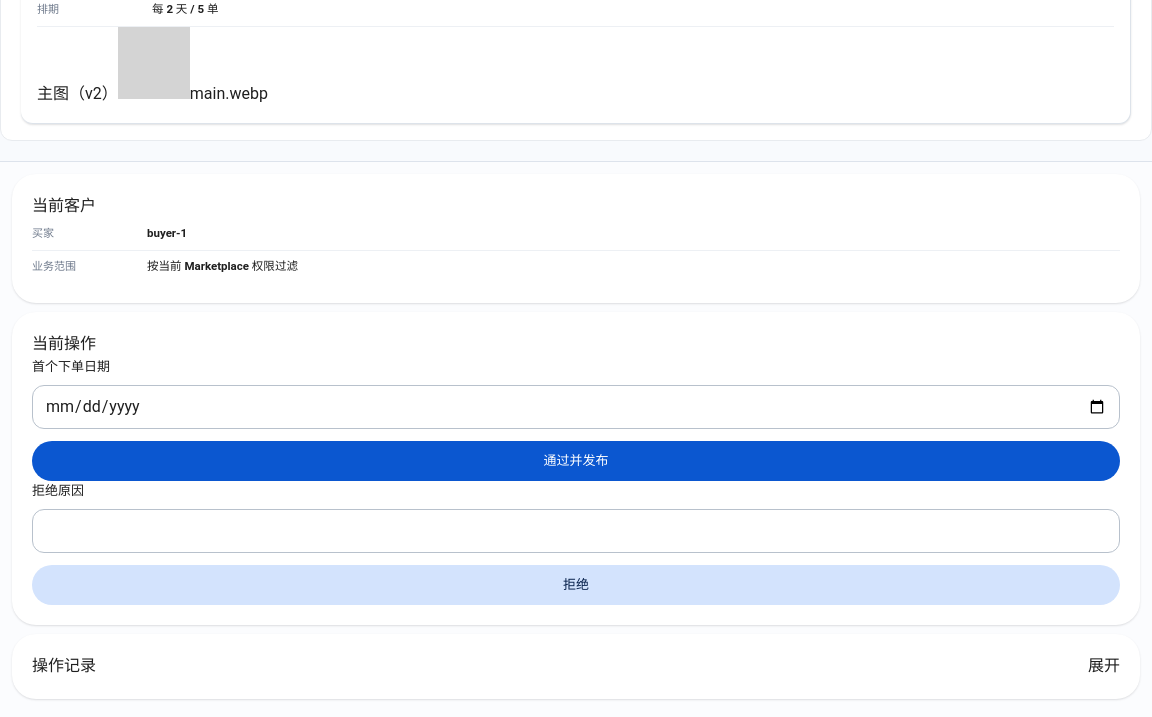
Test case: demand review panel › names the missing product readiness field when publish fails the 409 validation gate
(page scrolled)
In the date field labelled "首个下单日期": (576, 407) [32,385,1120,429], type "2026-08-11"
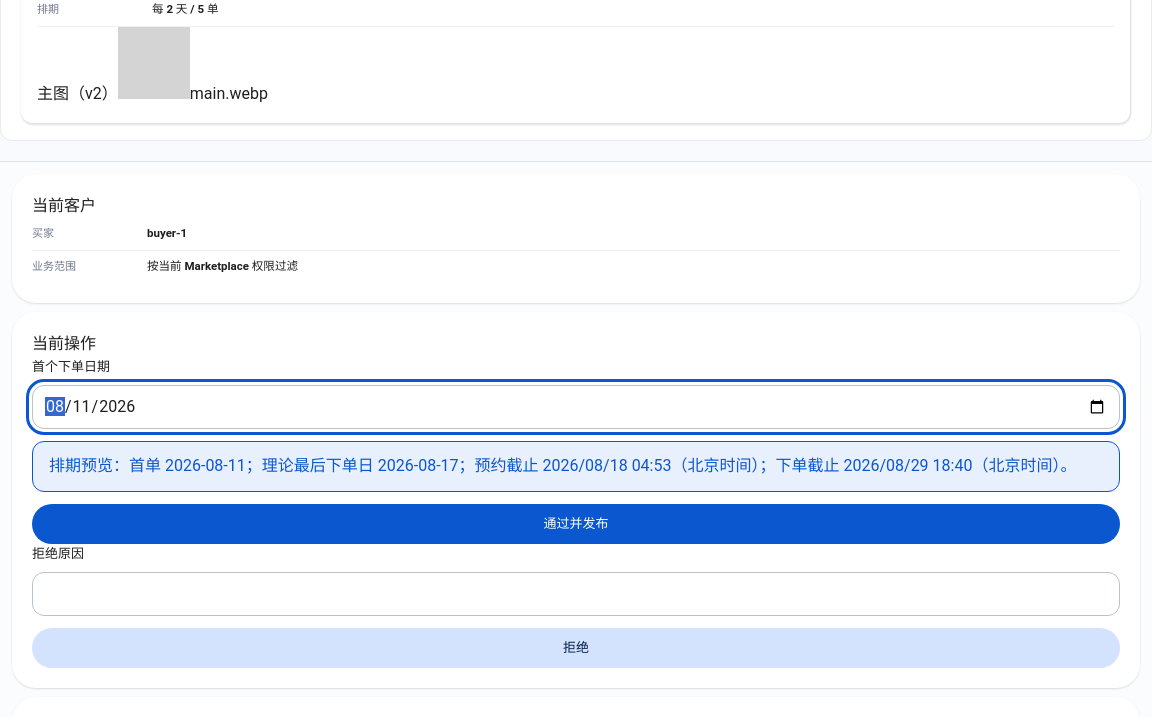
Click the button "通过并发布": click(576, 524) [32,504,1120,544]
(page scrolled)
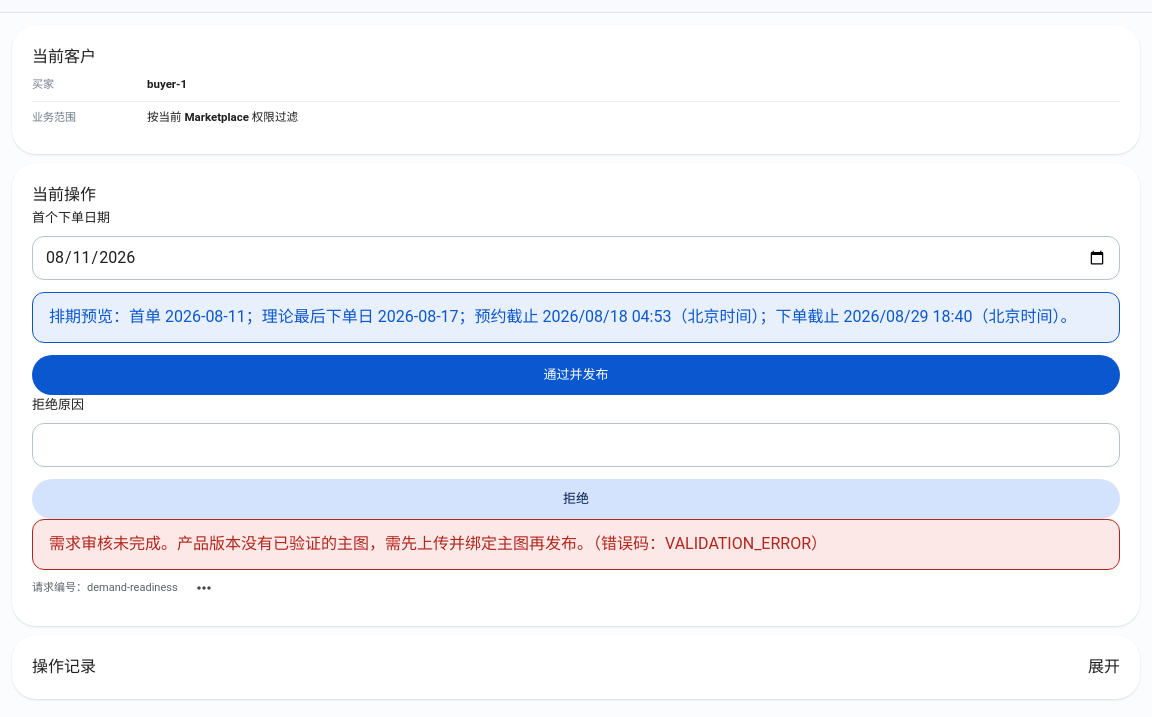
Expected: the message "需求审核未完成。产品版本没有已验证的主图，需先上传并绑定主图再发布。（错误码：VALIDATION_ERROR）" does not show "请检查首个下单日期", [32,519,1120,570]
Expected: the message "需求审核未完成。产品版本没有已验证的主图，需先上传并绑定主图再发布。（错误码：VALIDATION_ERROR）" is shown, [32,519,1120,570]
Expected: the text "请求编号：demand-readiness" is shown, [32,579,178,596]
